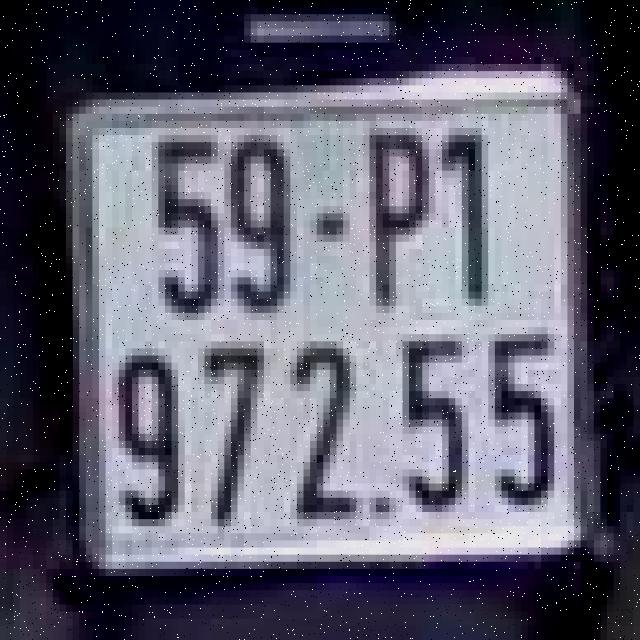1: (436, 114, 508, 313)
2: (287, 331, 360, 537)
5: (485, 320, 571, 519), (389, 330, 475, 522), (145, 128, 224, 327)
7: (195, 330, 267, 530)
9: (221, 124, 307, 323), (106, 342, 184, 540)
P: (360, 107, 432, 313)
